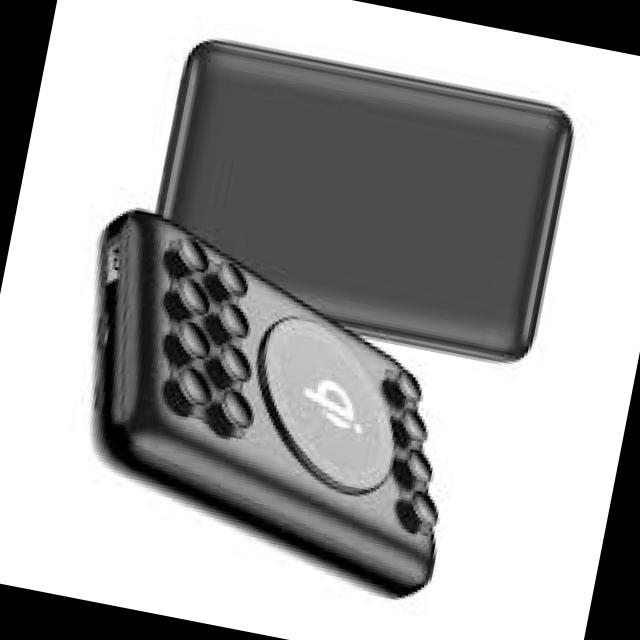power_bank: (39, 207, 495, 608), (132, 29, 586, 379)
